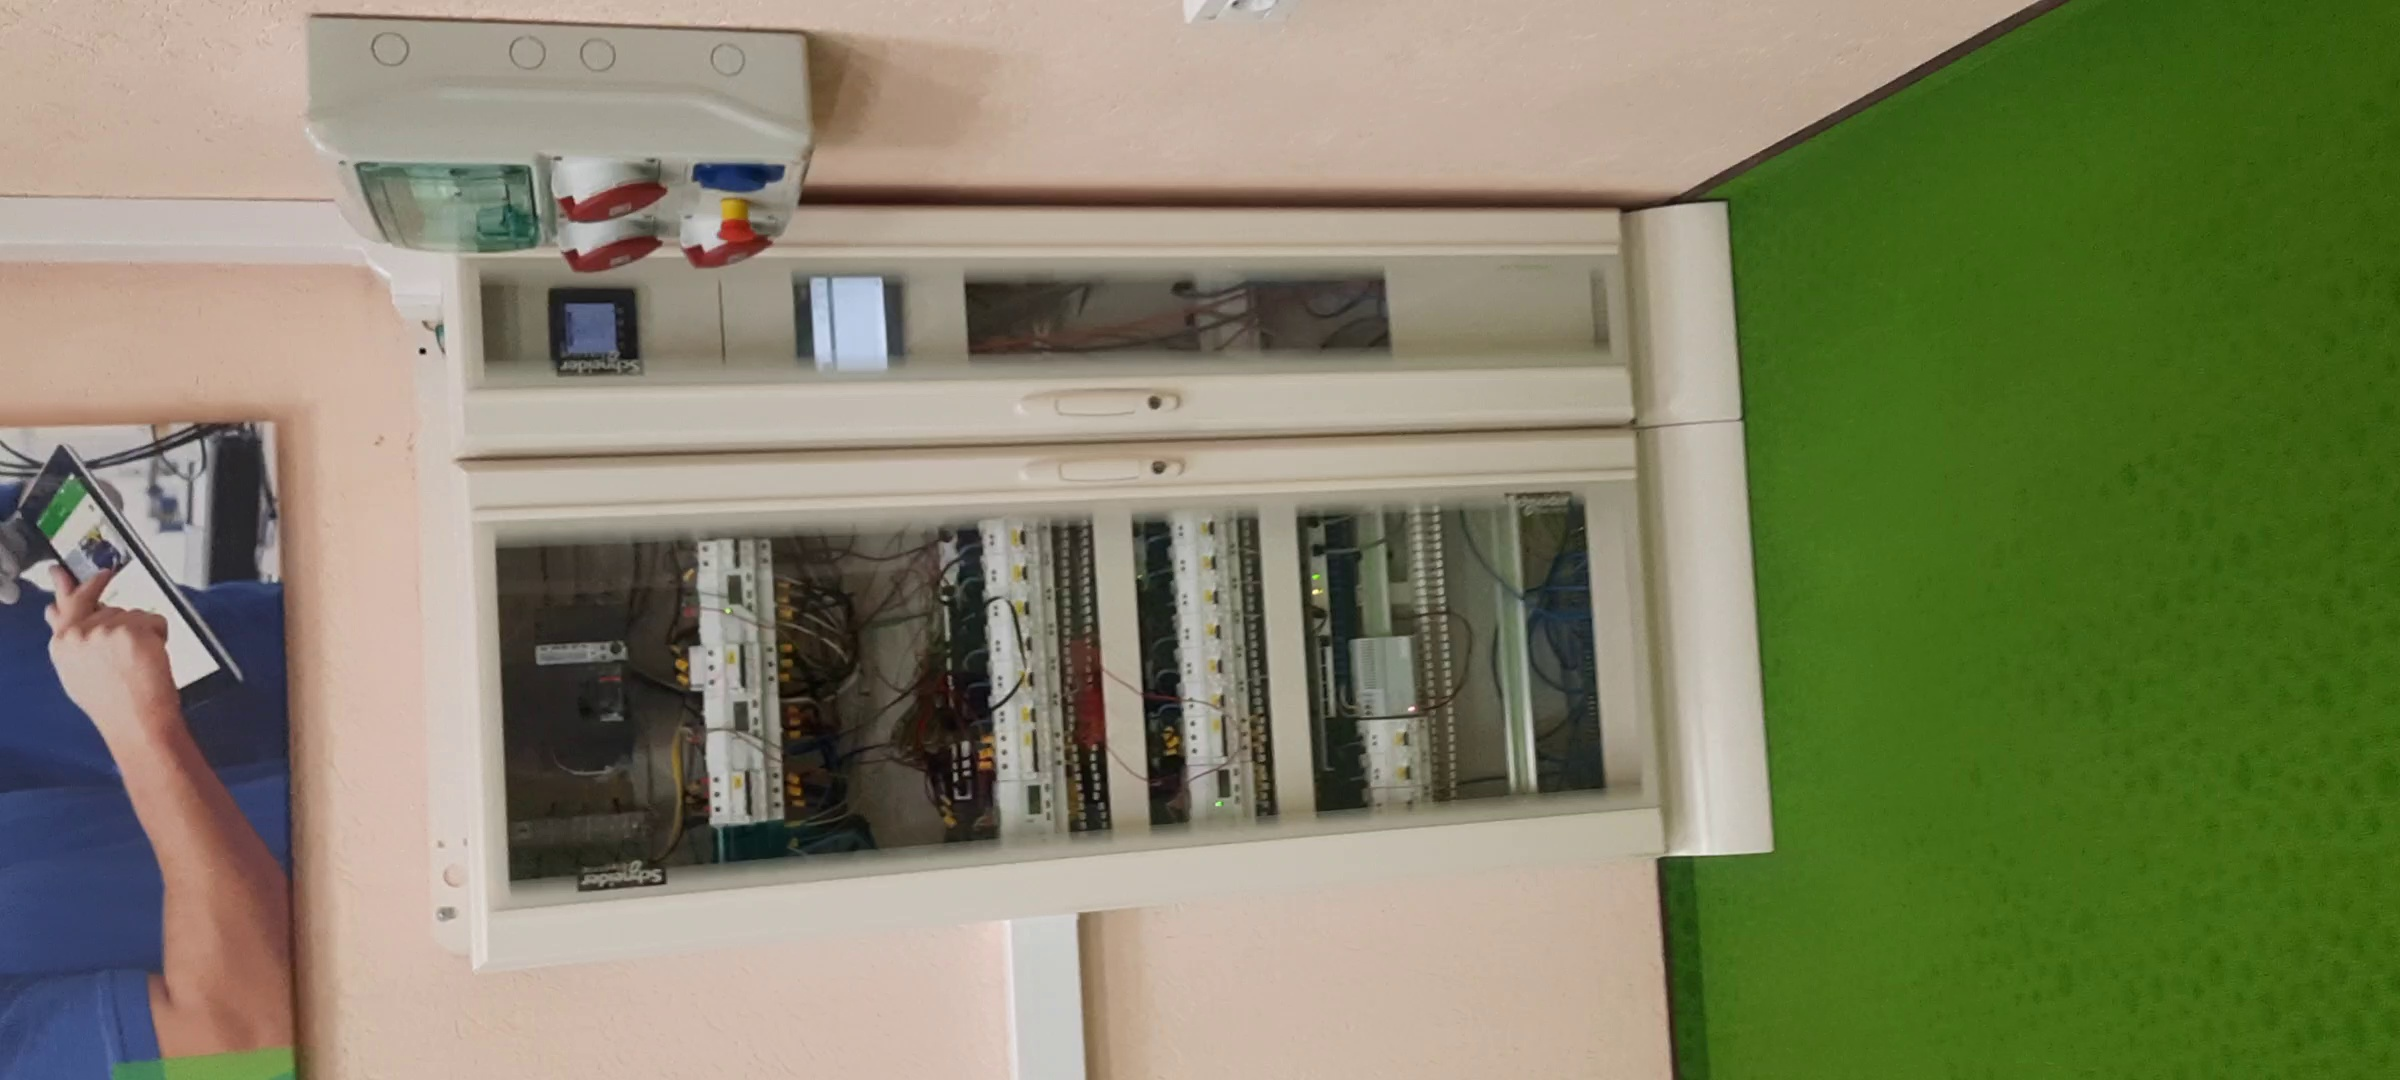stand1: (458, 223, 1759, 919)
